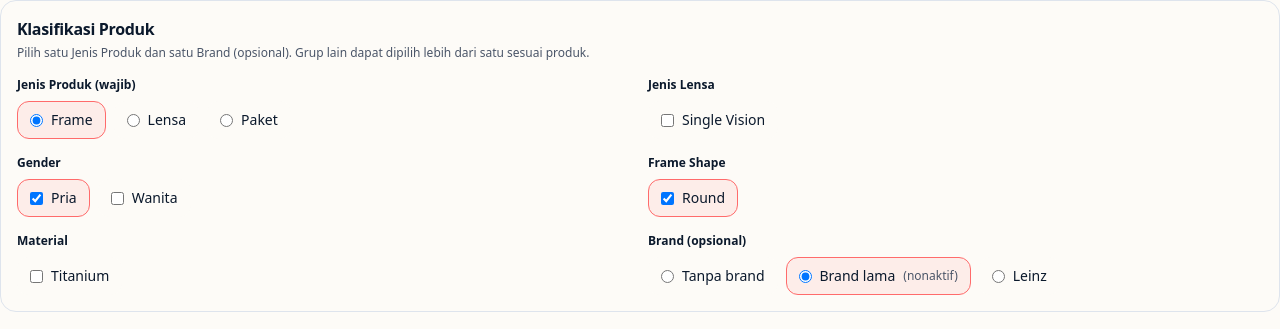
Test: brand uses a separate single choice and preserves product category tags
Later steps or results of the test are not shown.
Expected: the label "Brand lama (nonaktif)" is shown, top-left (786, 257), bottom-right (971, 295)
Click the radio button labelled "Leinz": x=998, y=276 top-left (992, 270), bottom-right (1005, 282)
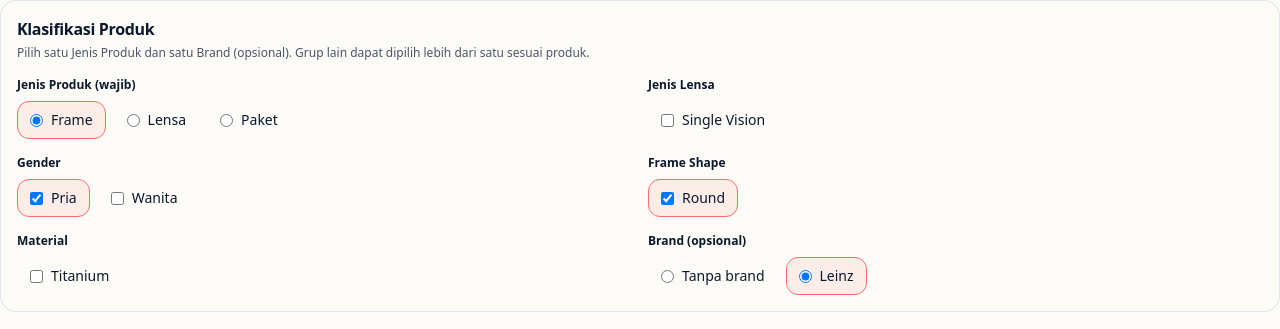
Expected: the label with test id "product-master-brand" no longer shows "Brand lama"
